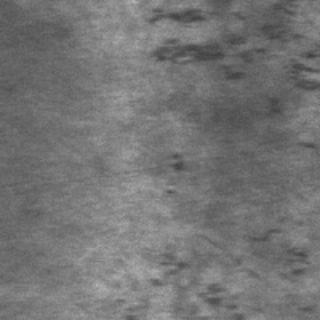rolled pit: (117, 221, 317, 313), (138, 0, 314, 76)
